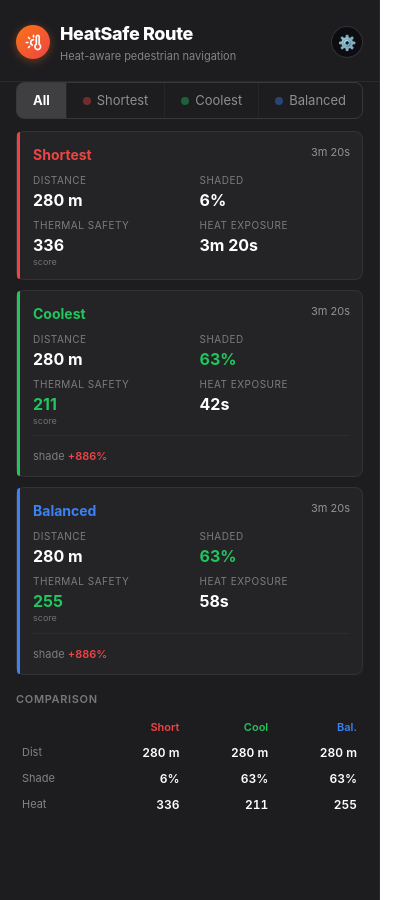
Test: RoutePanel — Settings drawer › opens the settings drawer from the sidebar gear button
The width and height of the screenshot is (397, 900).
Click the button with test id "settings-btn". click: (347, 42)
box: [331,26,363,58]
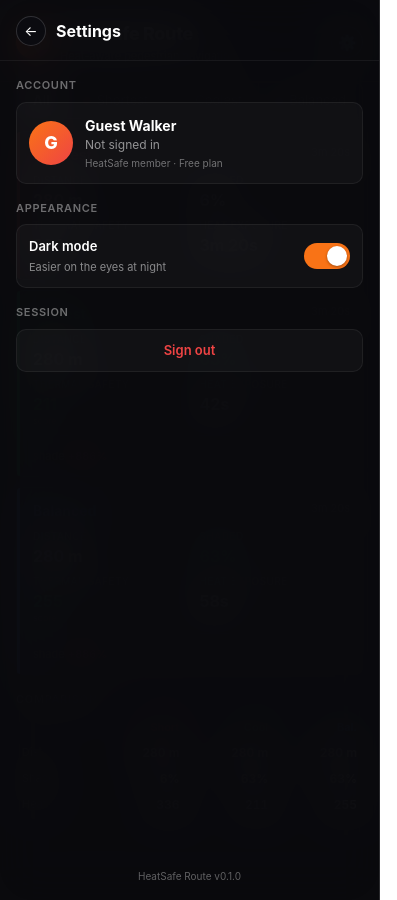
Result: the element with test id "settings-drawer" is shown
Click the button with test id "settings-back-btn". click: (31, 31)
box: [16,16,46,46]
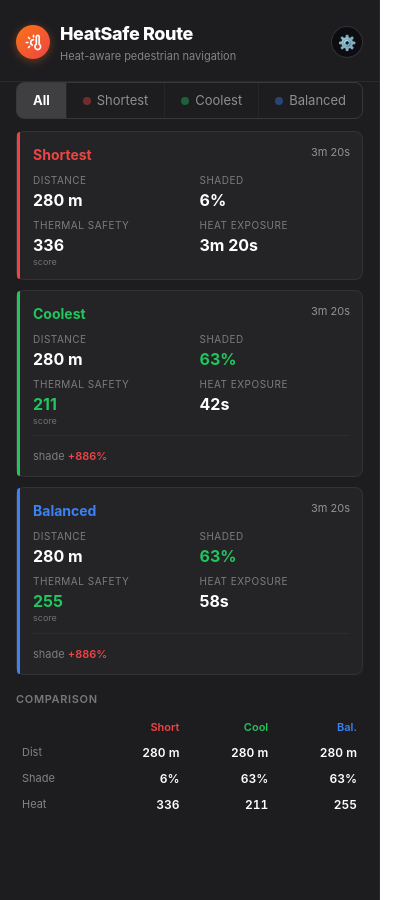
Result: the element with test id "settings-drawer" is gone
